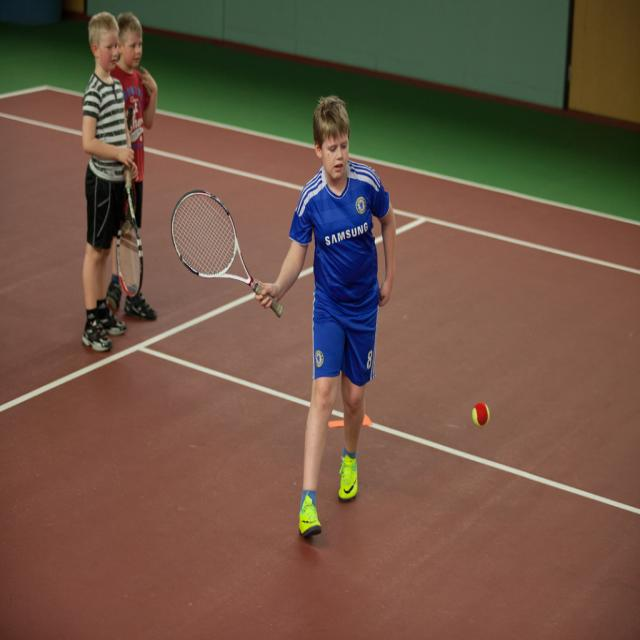Tennis ball: (472, 403, 490, 427)
